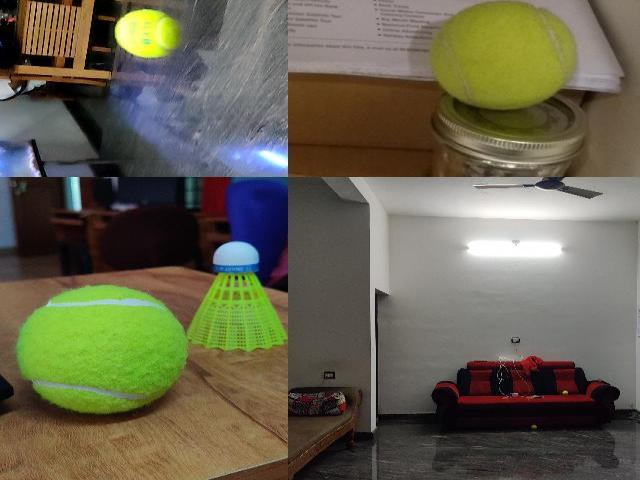tennis-ball: (17, 286, 185, 412), (429, 0, 578, 110), (114, 9, 182, 59), (562, 390, 568, 394), (531, 425, 537, 429)
